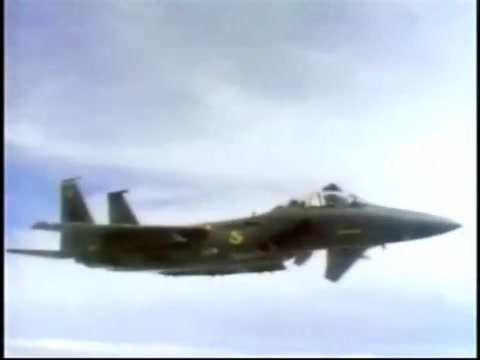aeroplane: (7, 177, 463, 284)
